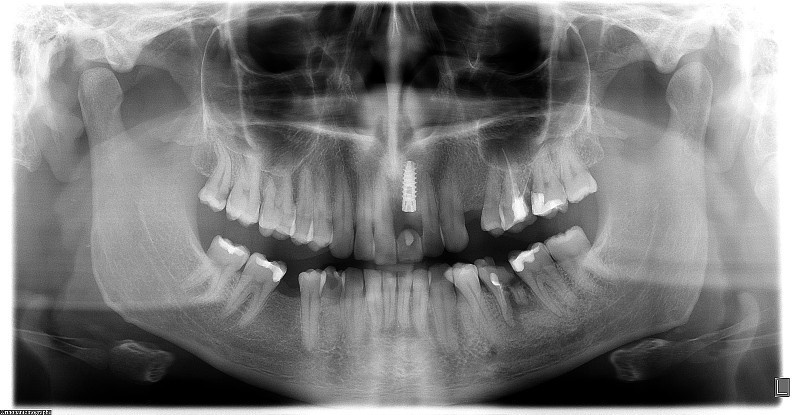API: (507, 286, 535, 332)
CAR: (524, 192, 531, 209)
END: (502, 148, 531, 202)
OBT: (219, 235, 244, 255)
PRR: (397, 228, 423, 262)
